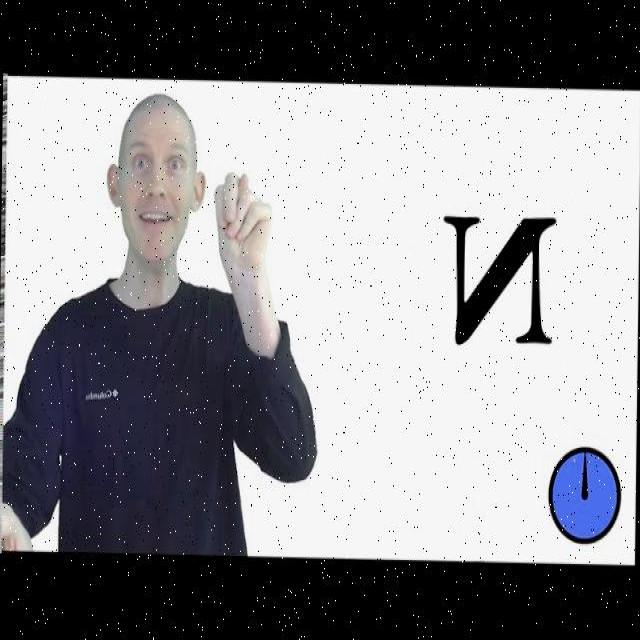N: (211, 168, 277, 271)
